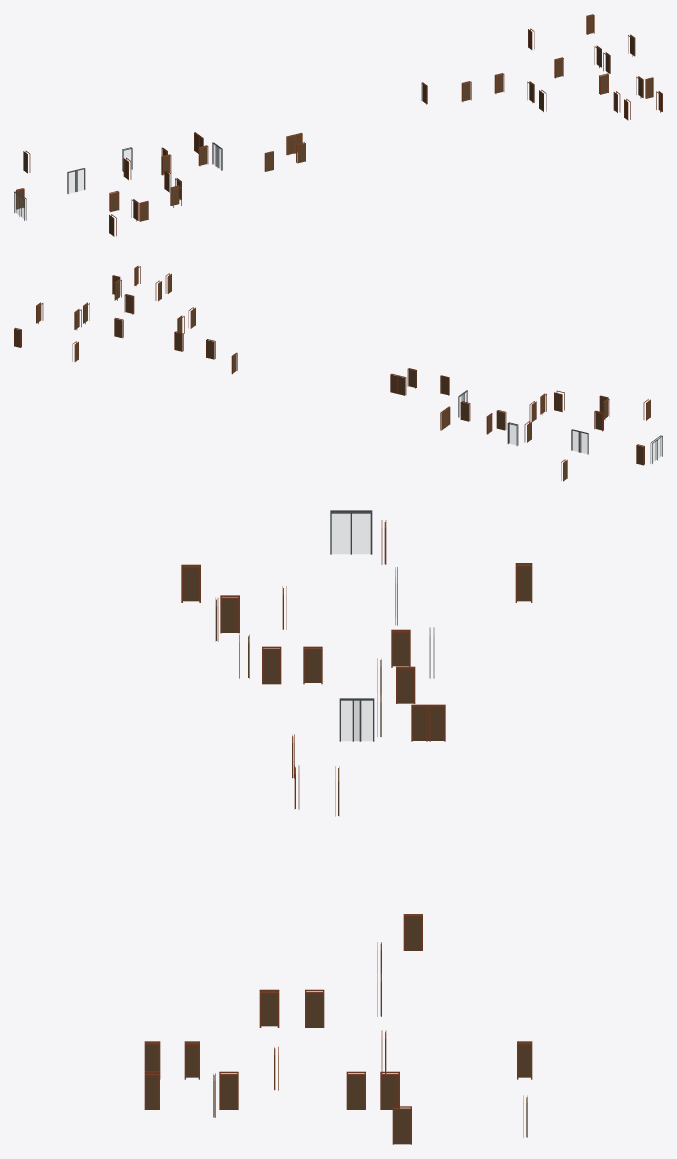
File: insaat_revit_test_erisim.ifc.ifc.ifc_93.0 Matbaa_IfcDoor.dae
3 views of the same model, one above another, from view 1: azimuth 30°, elevation 25°; view 2: azimuth 150°, elevation 25°; view 3: azimuth 270°, elevation 25° (orthographic). The views are drawn at different scales.
Visible parts, largest first — view 1: no part large enough to name; view 2: no part large enough to name; view 3: 0$aZqvUuD69uy95aB_5H$r, 0$aZqvUuD69uy95aB_5H$8, 2iSfXM1cXCnhCwrFOYezrT, 2iSfXM1cXCnhCwrFOYezqj.
Part boxes in pixels (x1,y1,x2,y2): 0$aZqvUuD69uy95aB_5H$r: (330,510,351,554); 0$aZqvUuD69uy95aB_5H$8: (350,510,372,554); 2iSfXM1cXCnhCwrFOYezrT: (352,698,374,741); 2iSfXM1cXCnhCwrFOYezqj: (339,698,361,741).
Bounding box in the file's own units: 74.52 × 20.64 × 2.48.
